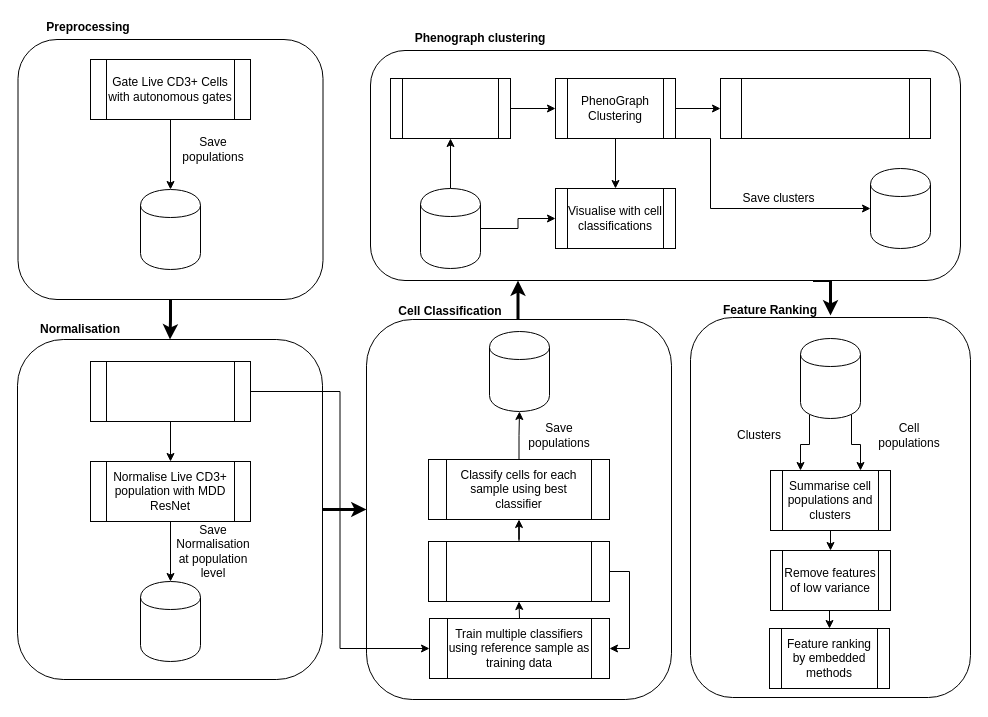
Some shapes in this 988 by 717 pixel diagram are drawn without their labels. Here are the shapes that lost their labels. From the top down, the centre of each, then its label:
At point (450, 108): "Sample live CD3+ cells from each patient sample".
At point (825, 108): "Visualise with interactive heatmap for cluster phenotypes".
At point (170, 391): "Identify reference sample".
At point (519, 571): "Validate on holdout data and visualise populations".
